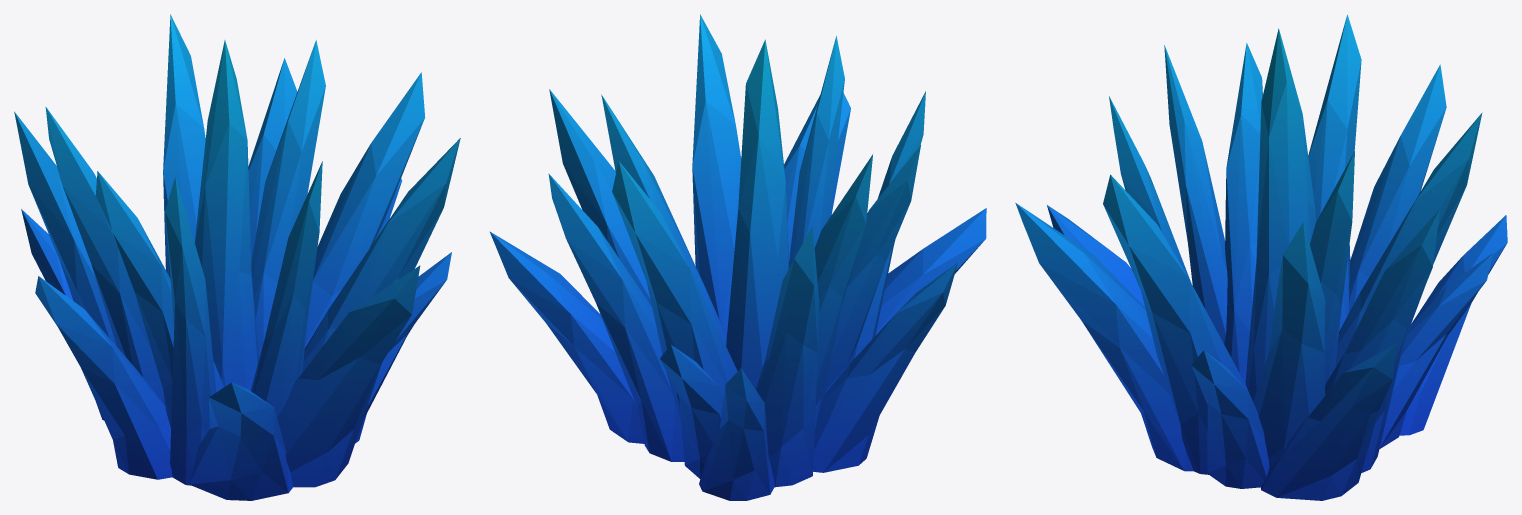
Rendered from crystal_1.glb.
3 views of the same model, side by side, from view 1: azimuth 30°, elevation 25°; view 2: azimuth 150°, elevation 25°; view 3: azimuth 270°, elevation 25° (orthographic). The views are drawn at different scales.
Parts seen in each view (by area): view 1: crystal_1; view 2: crystal_1; view 3: crystal_1.
Part boxes in pixels (box(x1,y1,x2,y2)): crystal_1: box(14, 14, 460, 500); crystal_1: box(489, 14, 986, 500); crystal_1: box(1015, 14, 1507, 500).
Size of the model in its own units: 7.16 by 6.69 by 7.35.
1 material, 1 textured.
